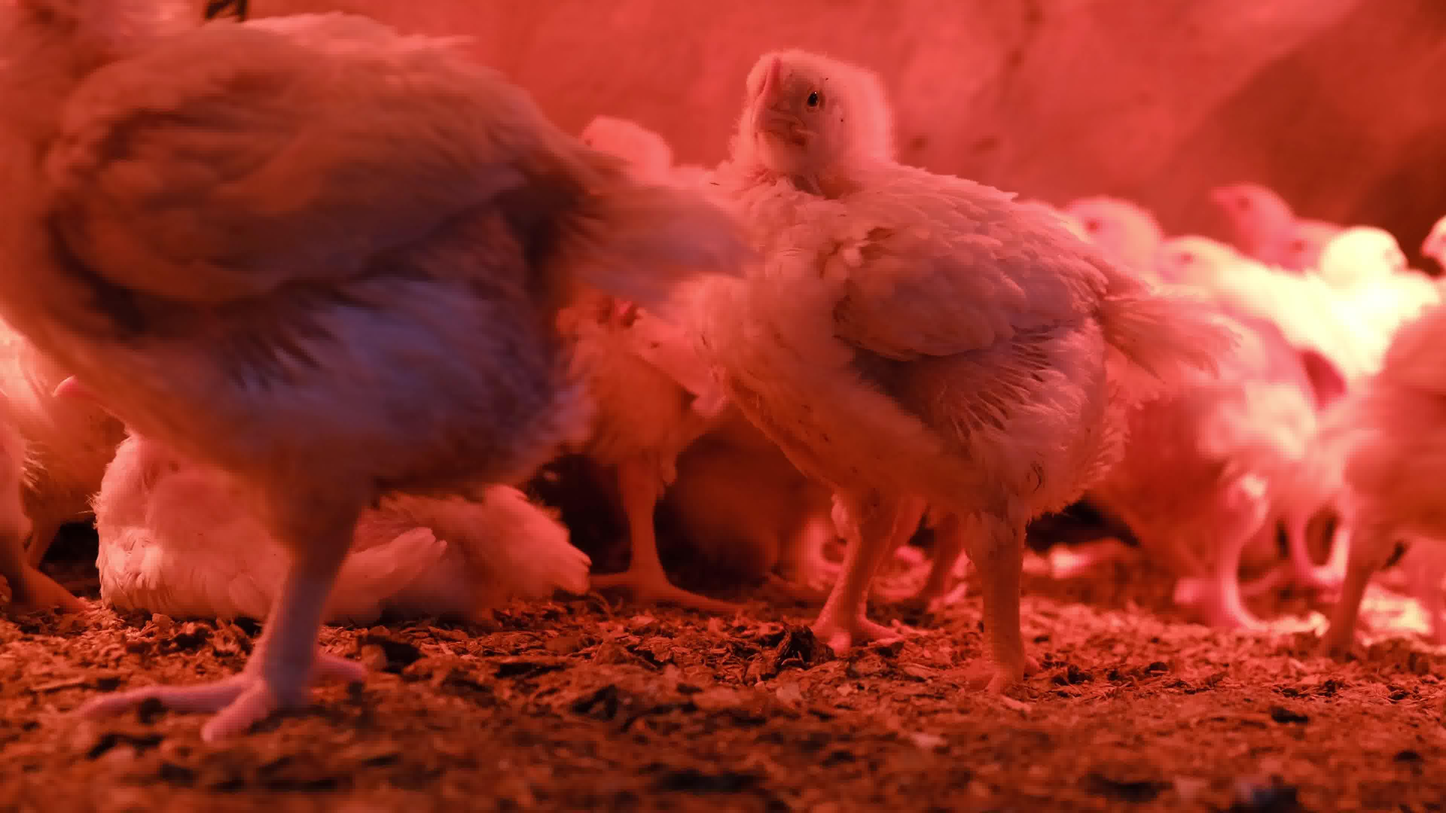AbNormal: (68, 386, 614, 657), (0, 301, 100, 640)
Normal: (0, 2, 663, 704), (695, 23, 1094, 683), (555, 90, 770, 615), (1361, 198, 1446, 657), (1120, 126, 1356, 282), (1267, 181, 1414, 346), (1036, 151, 1173, 309), (1143, 231, 1297, 371)
